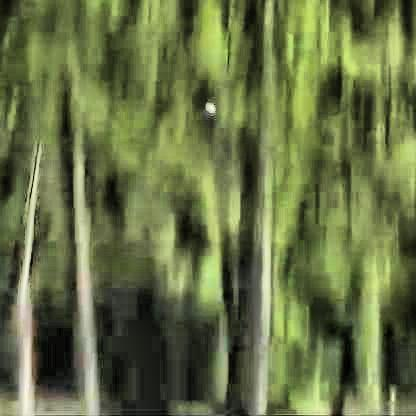golfball: (201, 97, 212, 113)
